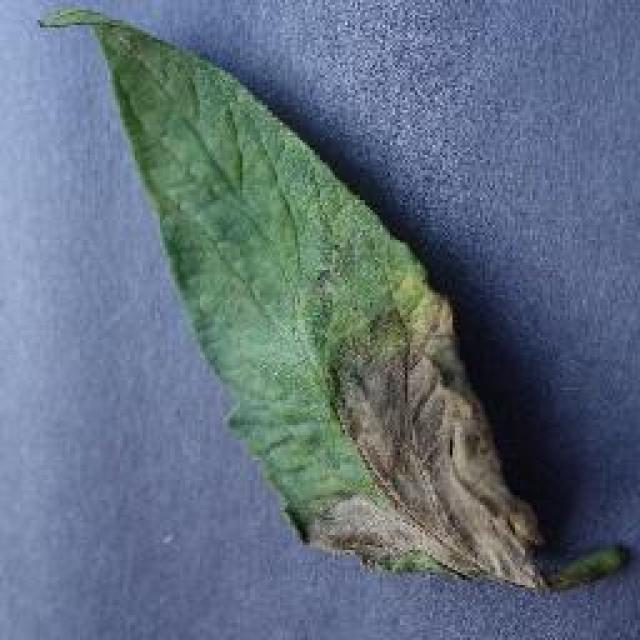Tomato___Late_blight: (41, 3, 629, 599)
